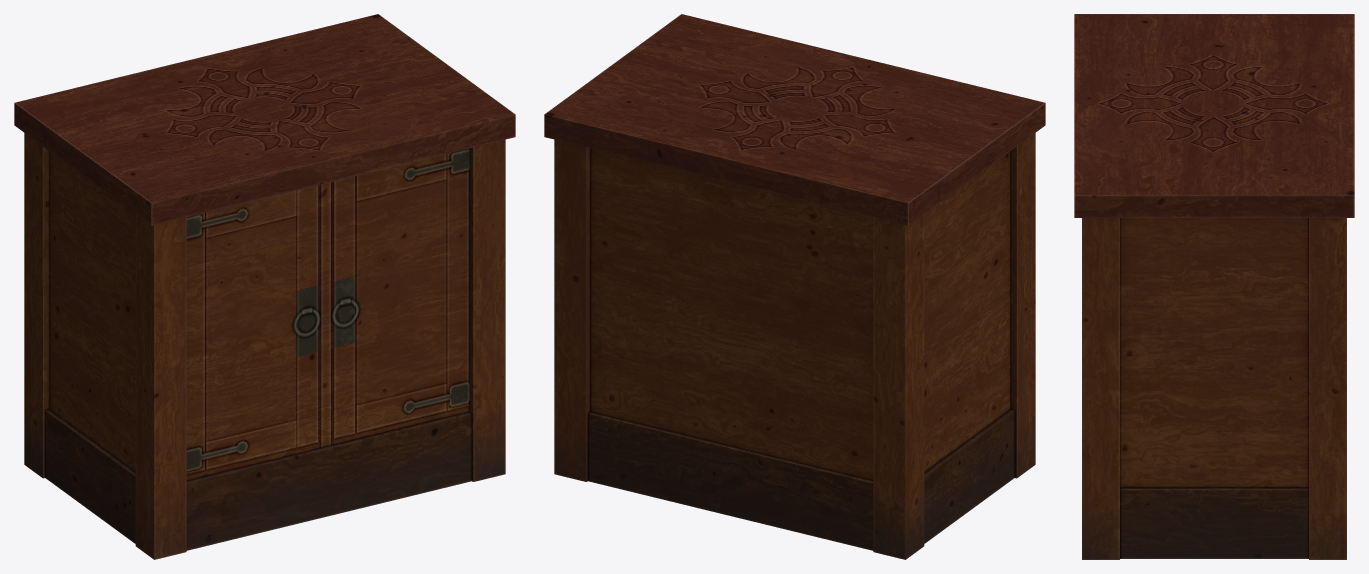
The model's file is DS_WizLab_Furn_SideTable.fbx.
The picture shows the model from 3 angles, left to right: view 1: azimuth 30°, elevation 25°; view 2: azimuth 150°, elevation 25°; view 3: azimuth 270°, elevation 25°; orthographic projection.
Parts seen in each view (by area): view 1: DS_WizLab_Furn_SideTable; view 2: DS_WizLab_Furn_SideTable; view 3: DS_WizLab_Furn_SideTable.
Boxes of the visible parts, left/top/right/bottom form: DS_WizLab_Furn_SideTable: left=14, top=14, right=515, bottom=559; DS_WizLab_Furn_SideTable: left=544, top=14, right=1045, bottom=559; DS_WizLab_Furn_SideTable: left=1074, top=14, right=1354, bottom=559.
Bounding box in the file's own units: 84.64 × 80.18 × 55.32.
Materials: 1 (1 with a texture image).
